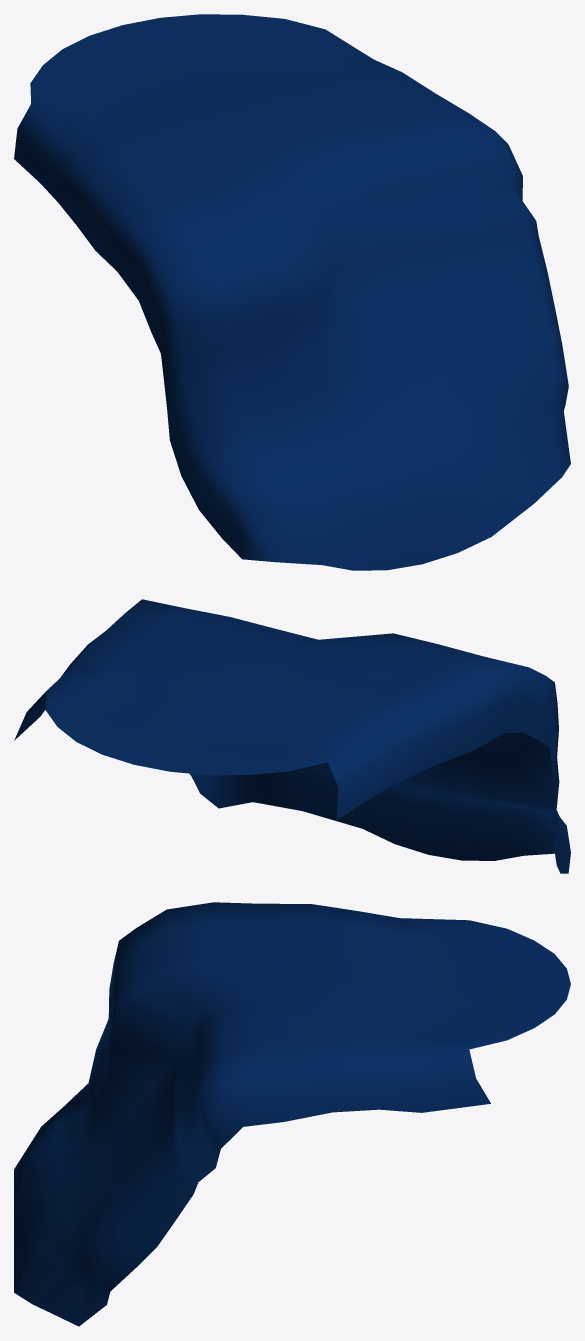
The model's file is Cascade_1.fbx.
The picture shows the model from 3 angles, top to bottom: view 1: azimuth 30°, elevation 25°; view 2: azimuth 150°, elevation 25°; view 3: azimuth 270°, elevation 25°; orthographic projection. The views are drawn at different scales.
Visible parts, largest first — view 1: Cascade; view 2: Cascade; view 3: Cascade.
Boxes of the visible parts, x1,y1,x2,y2 form: Cascade: (14, 14, 570, 570); Cascade: (14, 599, 570, 873); Cascade: (14, 902, 570, 1326).
Bounding box in the file's own units: 14.5 × 10.91 × 18.84.
